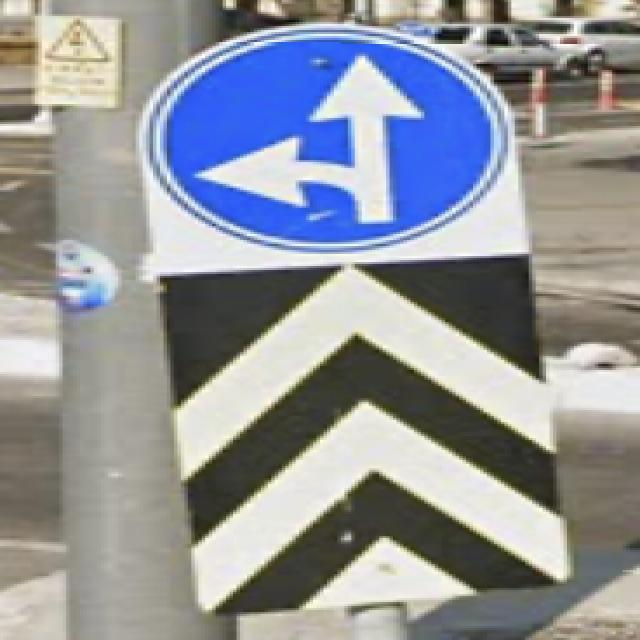Straight or Left: (149, 26, 507, 256)
